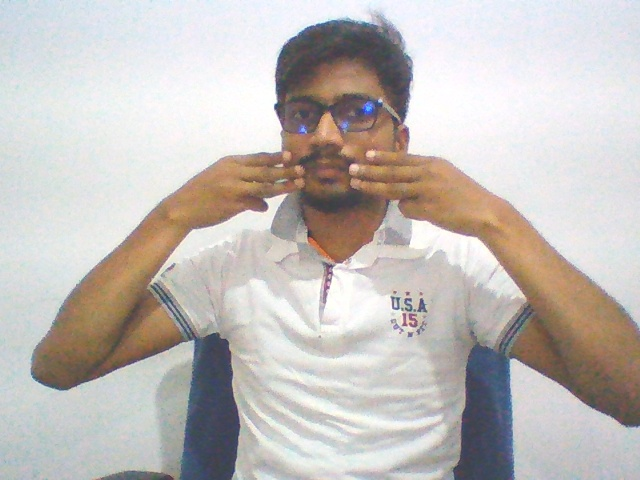cat: (159, 138, 517, 249)
